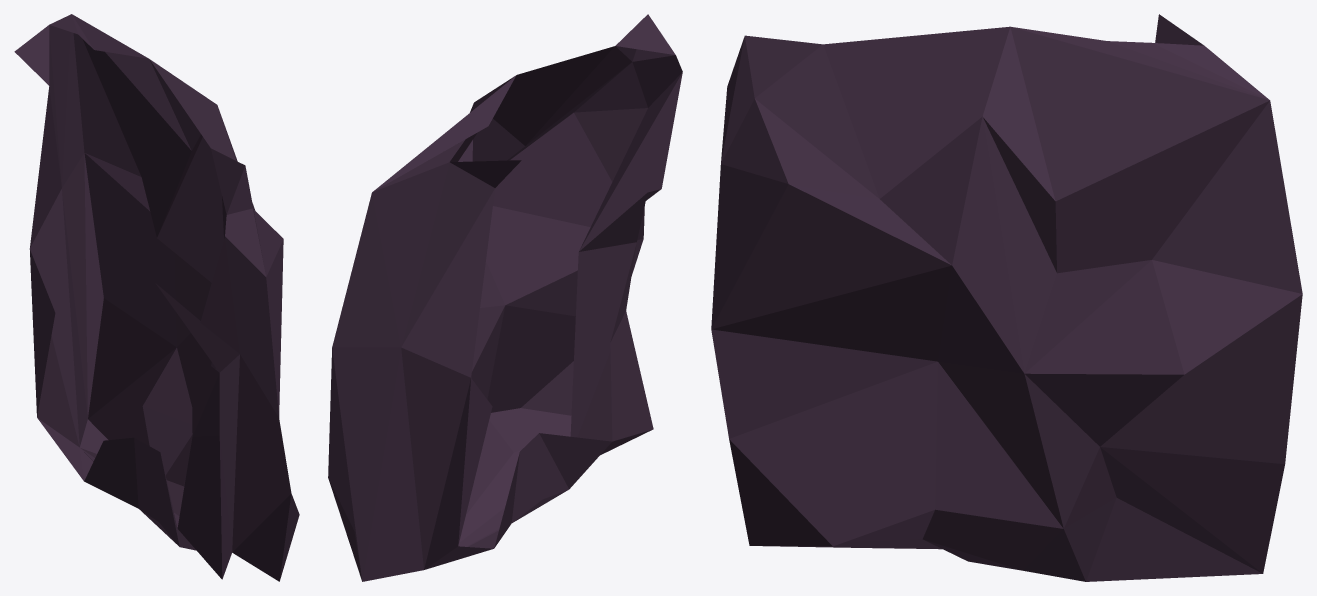
File: wall1_1.fbx
3 renders of one model, left to right at view 1: azimuth 30°, elevation 25°; view 2: azimuth 150°, elevation 25°; view 3: azimuth 270°, elevation 25°, orthographic. The views are drawn at different scales.
Visible parts, largest first — view 1: Cube.1149; view 2: Cube.1149; view 3: Cube.1149.
Part boxes in pixels (x1,y1,x2,y2): Cube.1149: [14, 14, 299, 581]; Cube.1149: [328, 14, 682, 581]; Cube.1149: [711, 14, 1302, 581].
Size of the model in its own units: 624 by 1620 by 1631.
